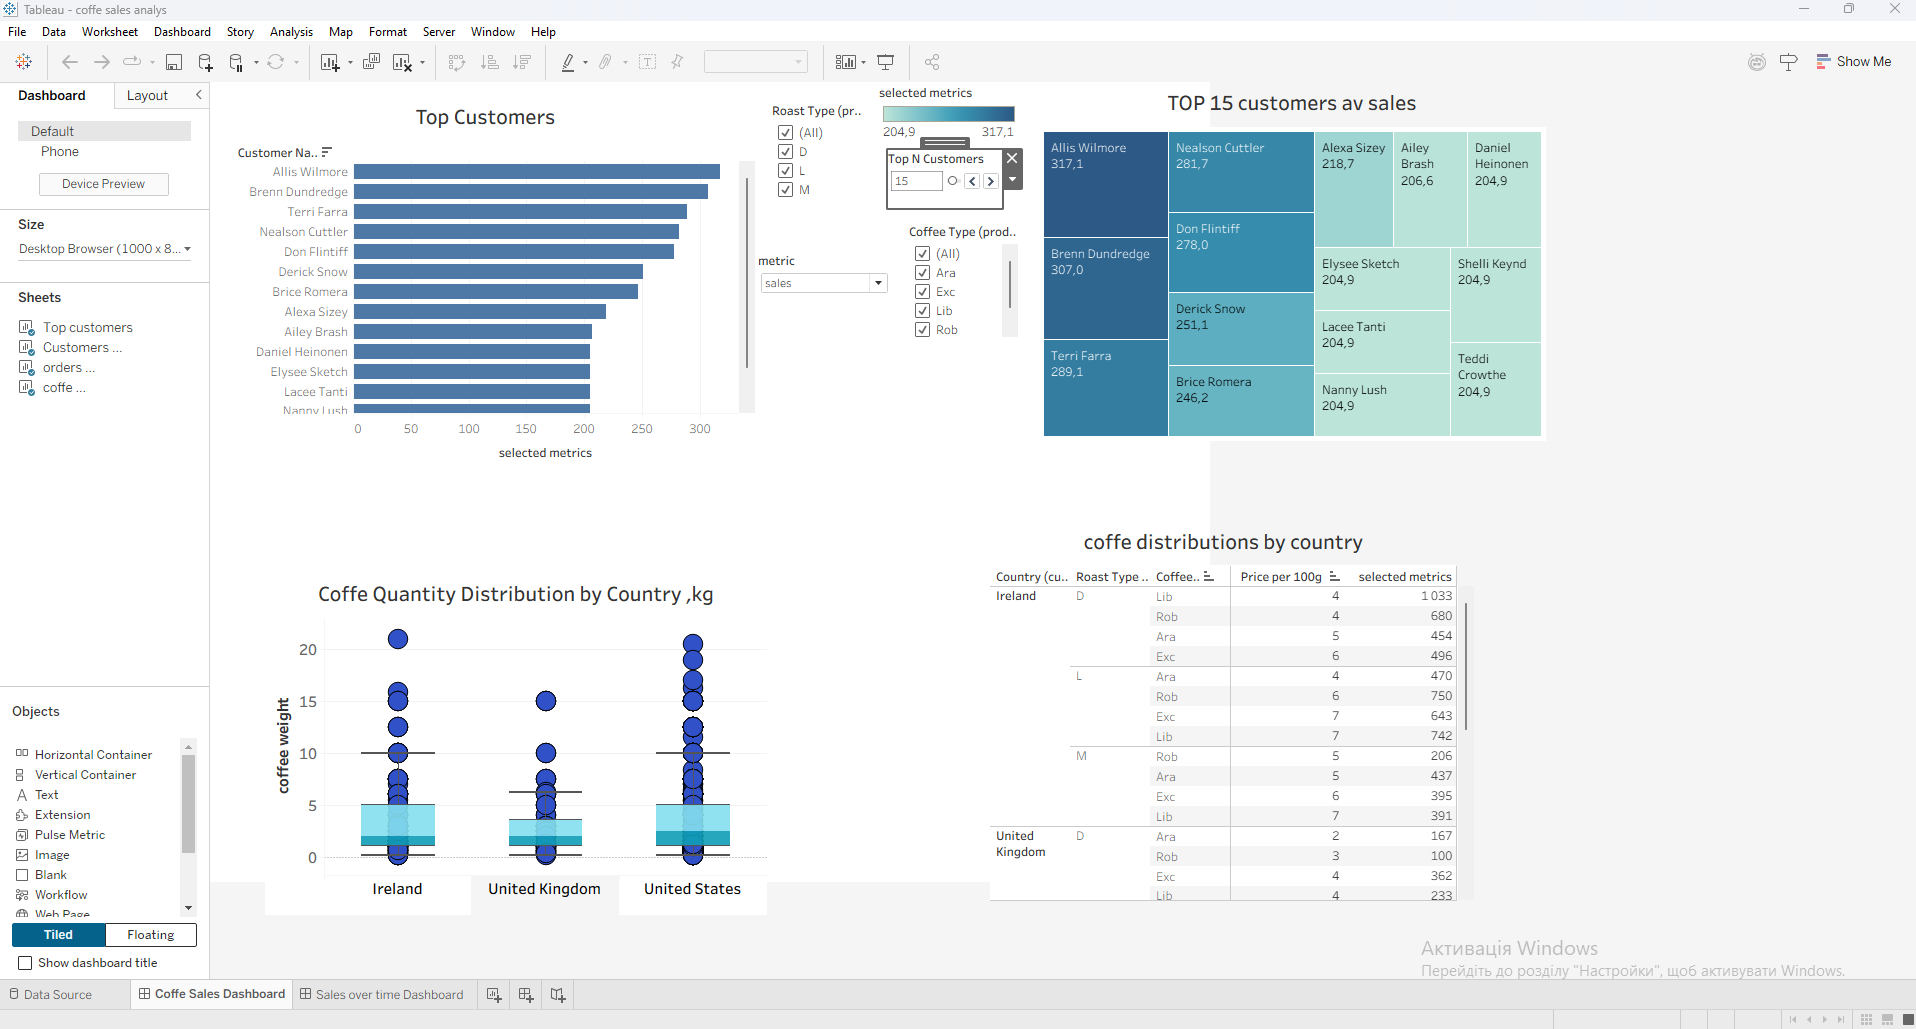

The page's visual inventory and layout, read from the dashboard file:
{"tool":"tableau","page":{"name":"Coffe Sales Dashboard","canvas":[1000,800],"ordinal":0},"visuals":[{"type":"legend","title":"Customers Treemap","param":"[federated.1me6og813xalm11b007uh0k49k2j].[usr:Calculation_1144645824315394:qk]","box":[669,2,140,76]},{"type":"worksheet","title":"Top customers","mark":"Automatic","rows":["Customer Name (customers)"],"cols":["Calculation_1144645824315394"],"box":[23,16,522,370]},{"type":"filter","title":"Top customers","param":"[federated.1me6og813xalm11b007uh0k49k2j].[none:Roast Type (products):nk]","box":[562,20,89,104]},{"type":"parameter","param":"[Parameters].[Parameter 2304631749537794]","box":[678,68,114,58]},{"type":"filter","title":"Top customers","param":"[federated.1me6og813xalm11b007uh0k49k2j].[none:Coffee Type (products):nk]","box":[699,141,109,114]},{"type":"parameter","param":"[Parameters].[Parameter 1144645822541825]","box":[548,170,133,75]}]}

Visuals, with their boxes on the page's 1000x800 design canvas (x1, y1, x2, y2). These are canvas units, not pixel positions in the 1916x1029 screenshot, which may show the page scaled, cropped or inside an application window:
"Customers Treemap" legend: select_region(669, 2, 809, 78)
"Top customers" worksheet: select_region(23, 16, 545, 386)
"Top customers" filter: select_region(562, 20, 651, 124)
parameter: select_region(678, 68, 792, 126)
"Top customers" filter: select_region(699, 141, 808, 255)
parameter: select_region(548, 170, 681, 245)
